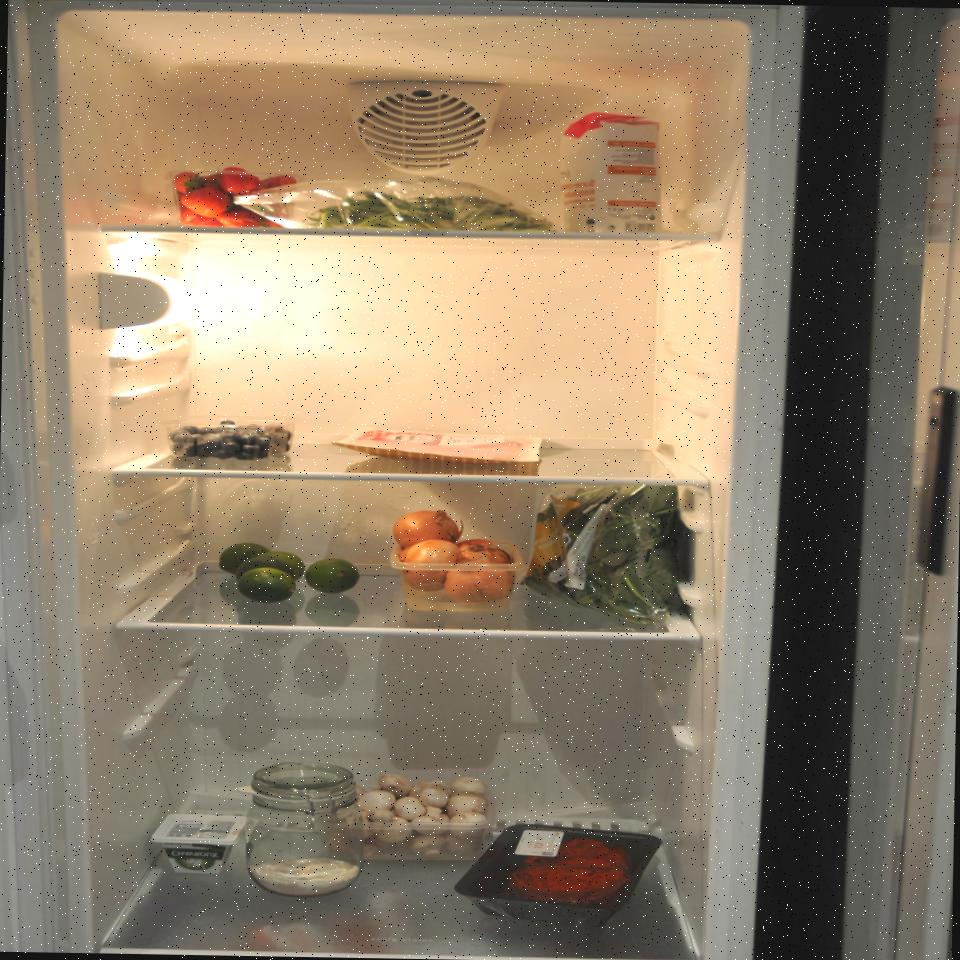blueberries: (157, 412, 302, 464)
lime: (216, 541, 364, 606)
strawberries: (166, 160, 300, 232)
